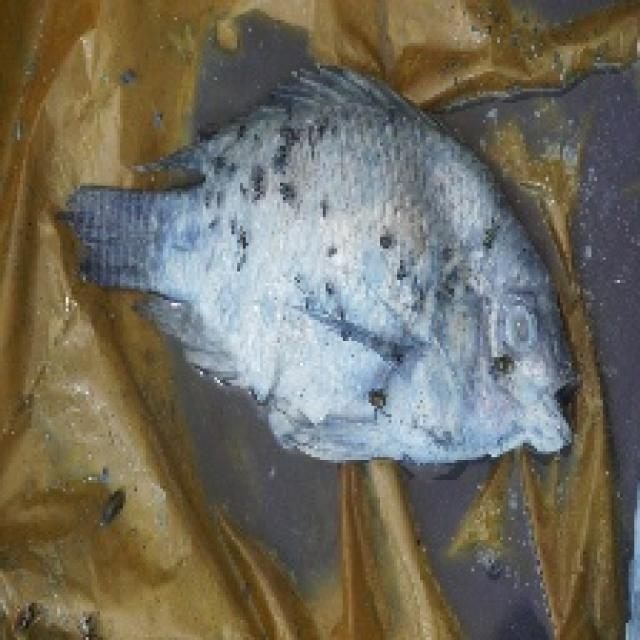Non-Fresh: (94, 85, 593, 480), (484, 281, 554, 374)
